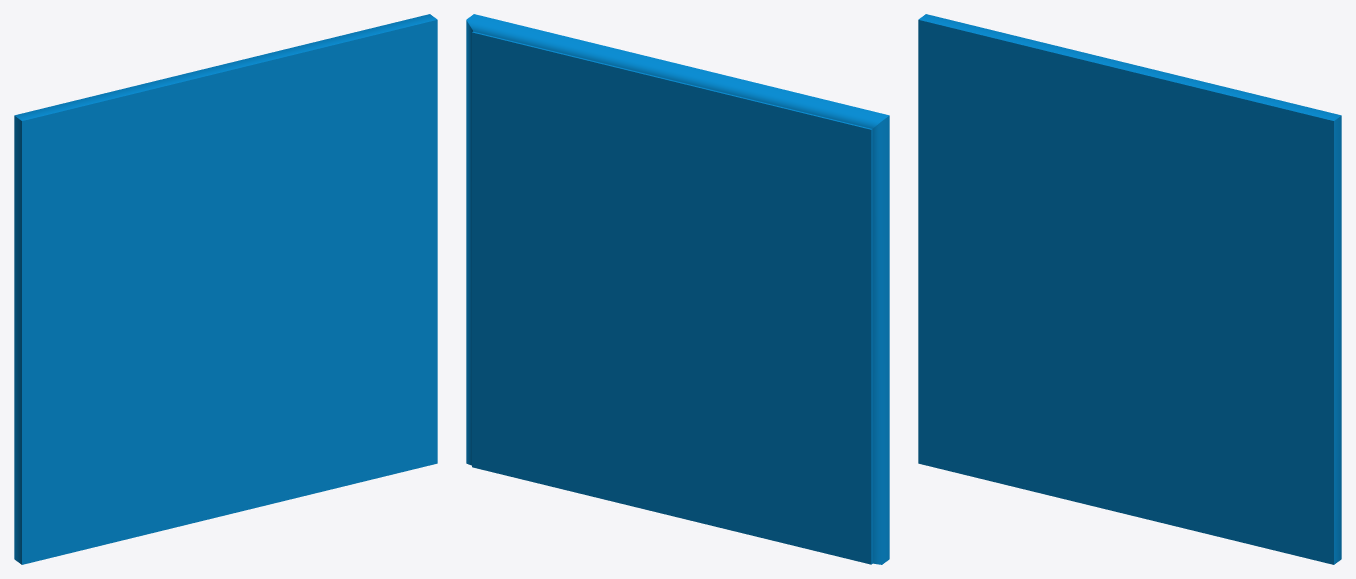
File: Miroir.fbx
The picture shows the model from 3 angles, left to right: view 1: azimuth 30°, elevation 25°; view 2: azimuth 150°, elevation 25°; view 3: azimuth 330°, elevation 25°; orthographic projection.
Visible parts, largest first — view 1: Miroir; view 2: Miroir; view 3: Miroir.
Boxes of the visible parts, x1,y1,x2,y2 form: Miroir: [14, 14, 437, 564]; Miroir: [466, 14, 889, 564]; Miroir: [918, 14, 1341, 564].
Bounding box in the file's own units: 1.17 × 1.2 × 0.0502.
